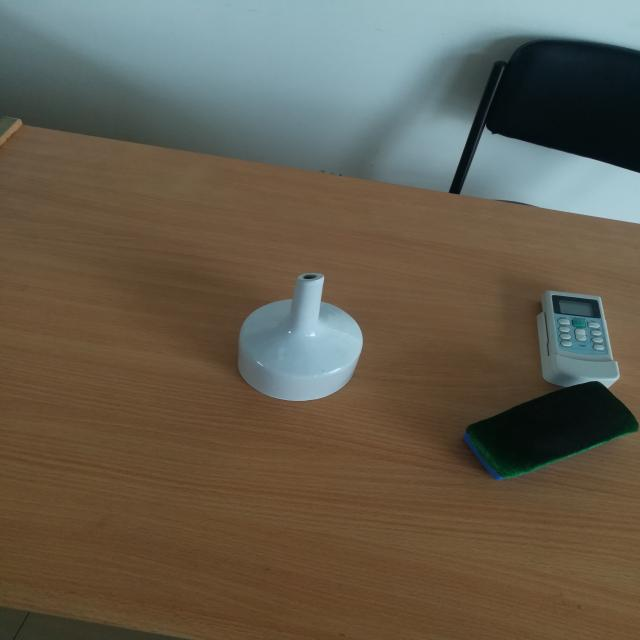Buchner_Funnel: (196, 243, 397, 435)
